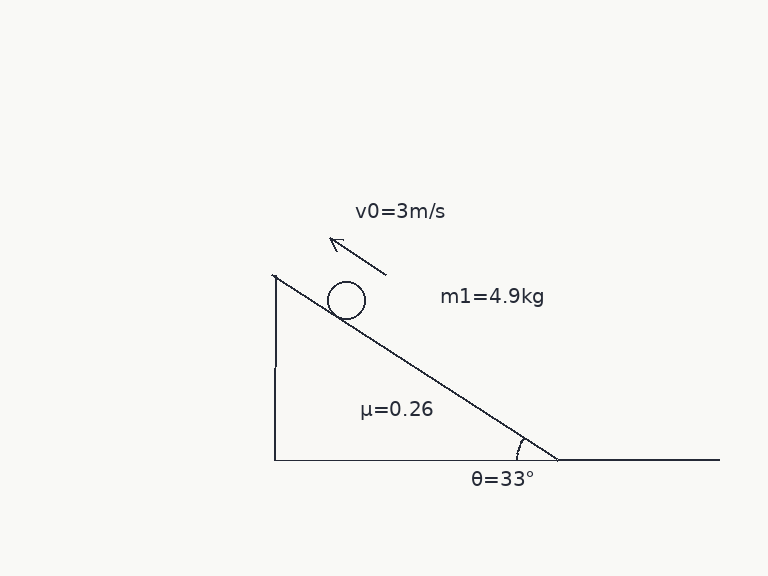ball: (325, 279, 367, 321)
ramp: (272, 274, 559, 462)
